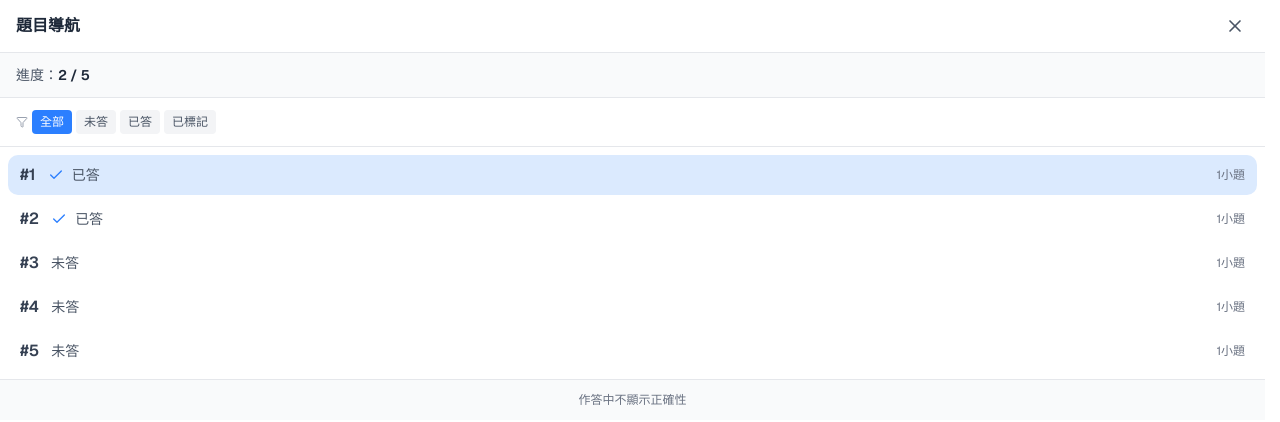
Test: NavigationPanel › 篩選功能 › 點擊篩選器應該只顯示對應題目
Click the button "已答".
click(140, 122)  # box x1=120 y1=110 x2=160 y2=134
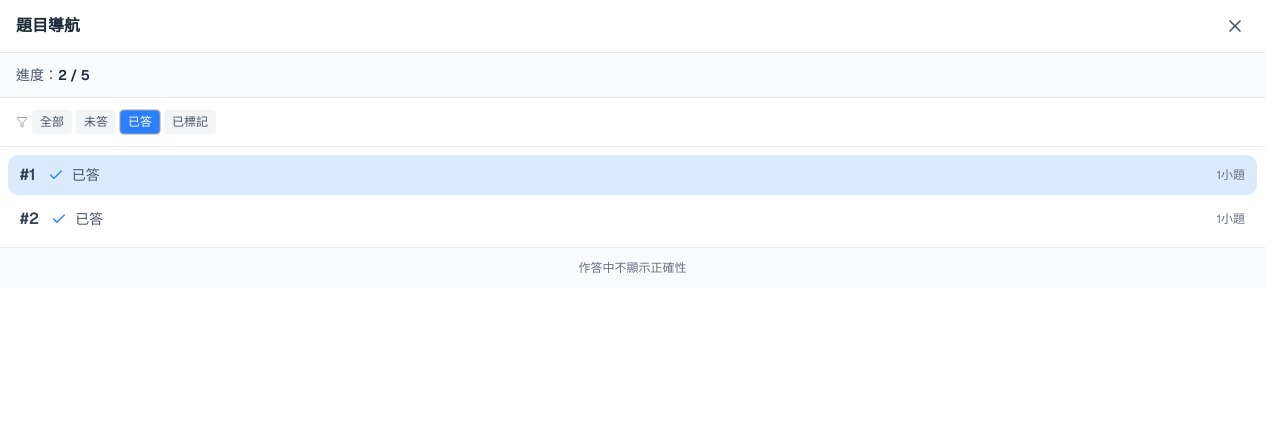
Expected: the text "#1" is shown, x1=20 y1=163 x2=36 y2=187
Result: the button "#3" is gone
